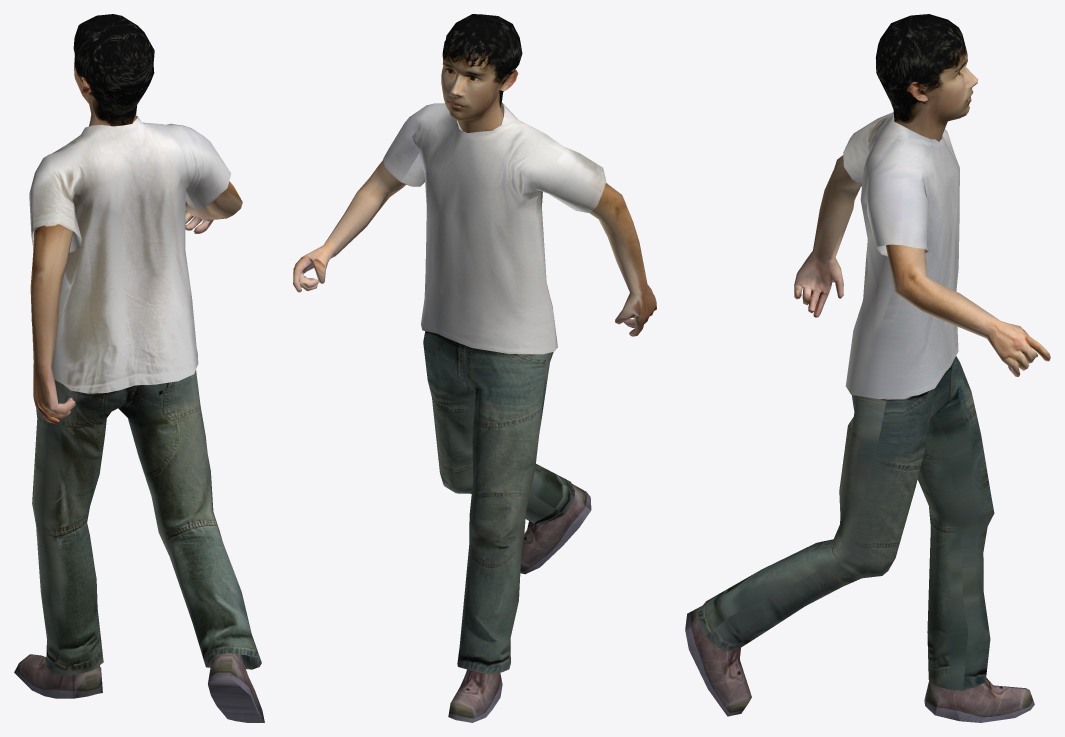
The model's file is party_person_male_01.obj.
3 renders of one model, left to right at view 1: azimuth 30°, elevation 25°; view 2: azimuth 150°, elevation 25°; view 3: azimuth 270°, elevation 25°, orthographic. The views are drawn at different scales.
Parts seen in each view (by area): view 1: cman0010_wa_layer1; view 2: cman0010_wa_layer1; view 3: cman0010_wa_layer1.
Part boxes in pixels (x1=…): cman0010_wa_layer1: x1=14, y1=14, x2=264, y2=722; cman0010_wa_layer1: x1=293, y1=14, x2=656, y2=722; cman0010_wa_layer1: x1=685, y1=14, x2=1050, y2=722.
Bounding box in the file's own units: 0.7074 × 1.7 × 0.7959.
Materials: 1 (1 with a texture image).
